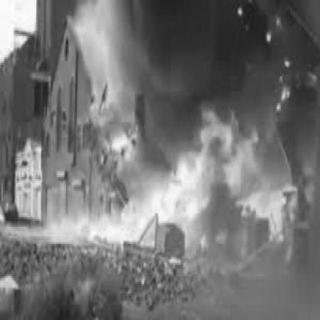Fire: (147, 90, 297, 244)
